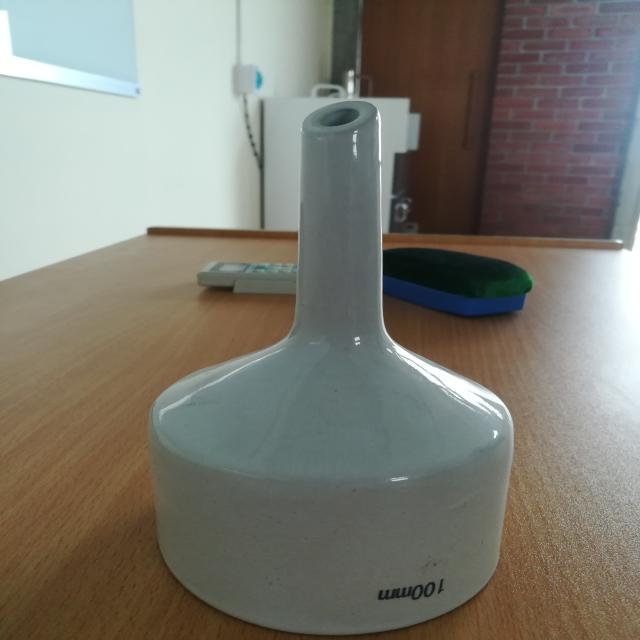Buchner_Funnel: (97, 62, 559, 640)
